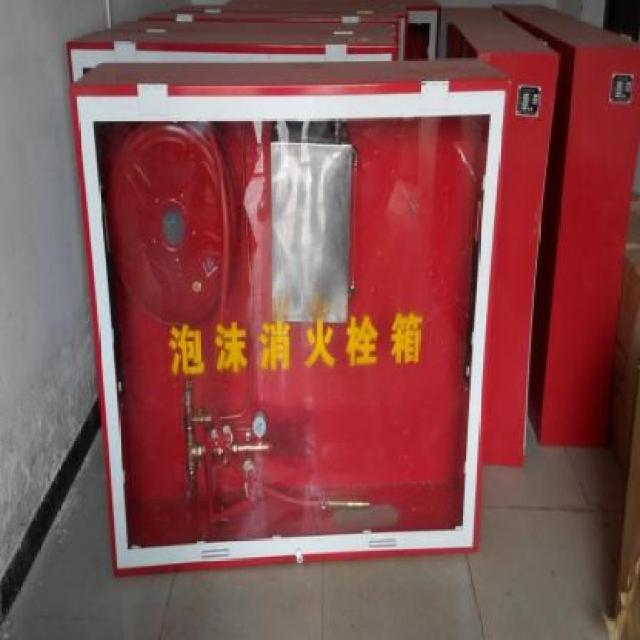firehydrant: (64, 57, 514, 588)
